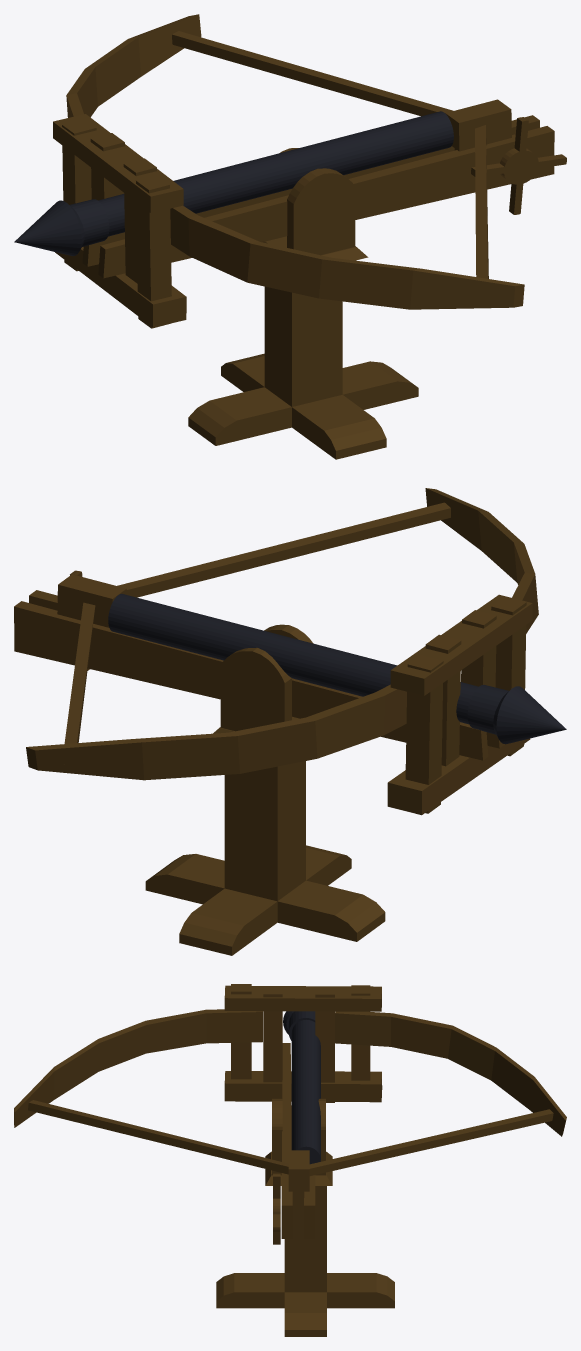
Rendered from balista_v002.fbx.
3 renders of one model, top to bottom at view 1: azimuth 30°, elevation 25°; view 2: azimuth 150°, elevation 25°; view 3: azimuth 270°, elevation 25°, orthographic. The views are drawn at different scales.
Parts seen in each view (by area): view 1: Balista_top, Balista_stand, Balista_arrow; view 2: Balista_top, Balista_stand, Balista_arrow; view 3: Balista_top, Balista_stand, Balista_arrow.
Part boxes in pixels (x1,y1,x2,y2): Balista_top: [53, 14, 566, 328]; Balista_stand: [188, 286, 418, 459]; Balista_arrow: [14, 111, 453, 256]; Balista_top: [14, 488, 538, 815]; Balista_stand: [145, 761, 385, 955]; Balista_arrow: [108, 594, 566, 744]; Balista_top: [14, 984, 566, 1244]; Balista_stand: [216, 1186, 394, 1336]; Balista_arrow: [283, 1011, 320, 1164].
Size of the model in its own units: 1.31 by 0.7238 by 1.52.
